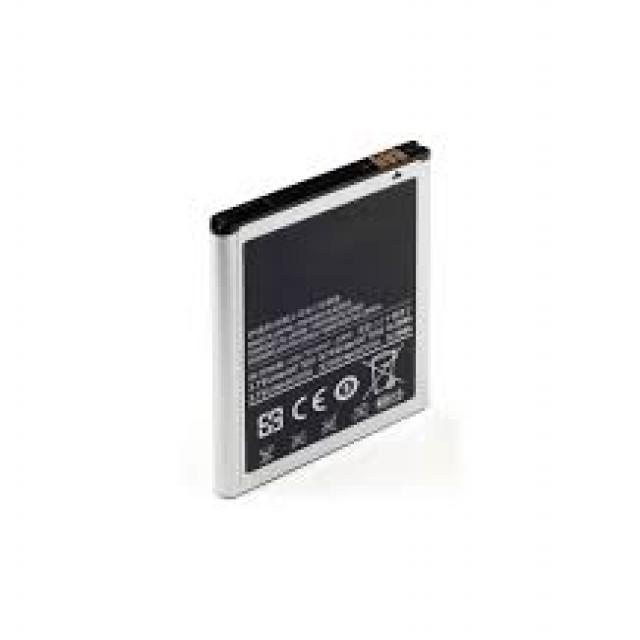non-organic waste: (203, 140, 428, 499)
